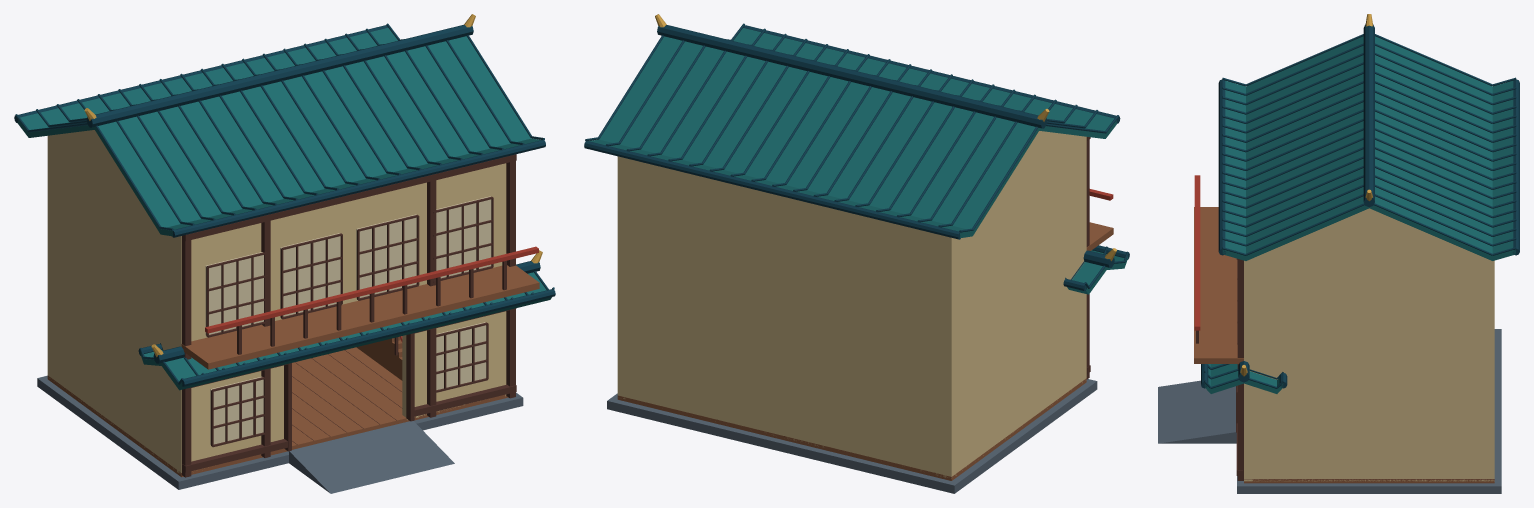
File: inn.glb
3 renders of one model, left to right at view 1: azimuth 30°, elevation 25°; view 2: azimuth 150°, elevation 25°; view 3: azimuth 270°, elevation 25°, orthographic. The views are drawn at different scales.
Parts seen in each view (by area): view 1: CP_Roof, CP_Wall_Front, CP_Wall_Left, CP_Floor, CP_Wall_Back, CP_Interior; view 2: CP_Wall_Back, CP_Roof, CP_Wall_Left, CP_Floor, CP_Wall_Right, CP_Wall_Front; view 3: CP_Roof, CP_Wall_Right, CP_Floor, CP_Wall_Front, CP_Wall_Back.
Boxes of the visible parts, x1=… form: CP_Roof: x1=14, y1=14, x2=555, y2=390; CP_Wall_Front: x1=177, y1=154, x2=539, y2=477; CP_Wall_Left: x1=47, y1=135, x2=181, y2=472; CP_Floor: x1=37, y1=347, x2=523, y2=493; CP_Wall_Back: x1=47, y1=136, x2=52, y2=378; CP_Interior: x1=356, y1=337, x2=402, y2=380; CP_Wall_Back: x1=617, y1=156, x2=956, y2=478; CP_Roof: x1=584, y1=14, x2=1129, y2=294; CP_Wall_Left: x1=943, y1=136, x2=1086, y2=477; CP_Floor: x1=607, y1=378, x2=1097, y2=493; CP_Wall_Right: x1=617, y1=157, x2=625, y2=398; CP_Wall_Front: x1=1086, y1=137, x2=1113, y2=379; CP_Roof: x1=1201, y1=14, x2=1519, y2=393; CP_Wall_Right: x1=1244, y1=254, x2=1494, y2=481; CP_Floor: x1=1158, y1=329, x2=1501, y2=493; CP_Wall_Front: x1=1194, y1=175, x2=1252, y2=481; CP_Wall_Back: x1=1486, y1=258, x2=1494, y2=481.
Bounding box in the file's own units: 11.8 × 9.66 × 10.11.
